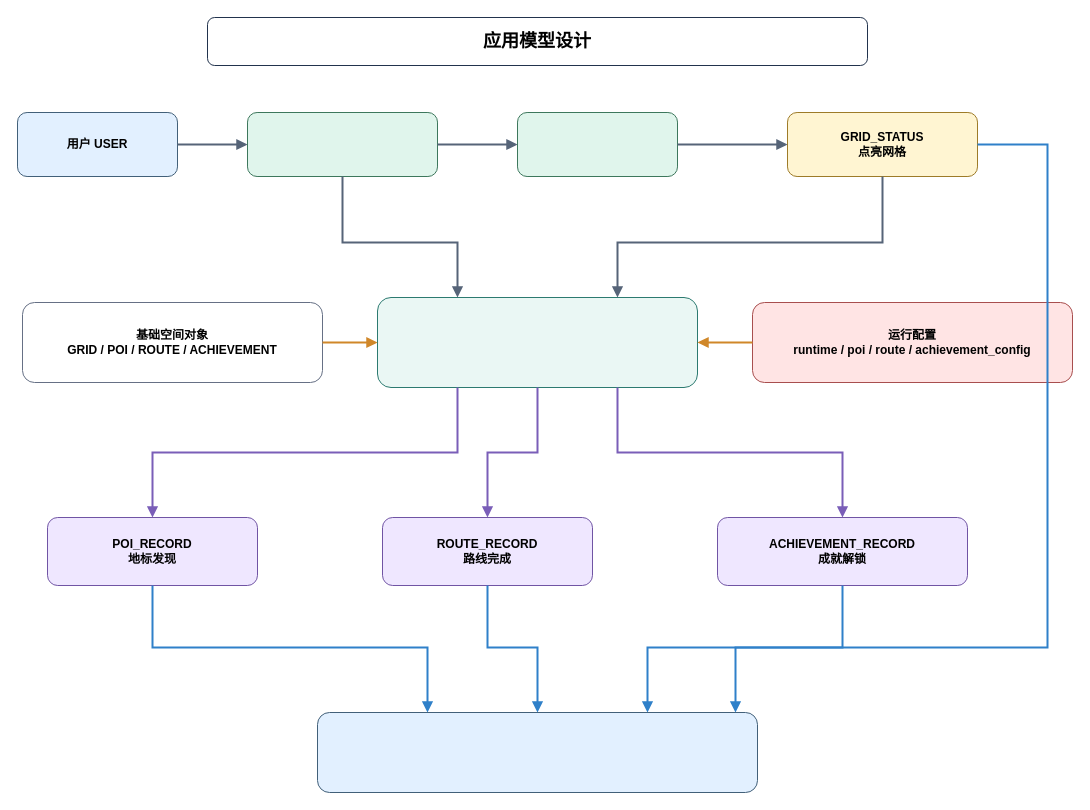
Some shapes in this 1090 by 810 pixel diagram are drawn without their labels. Each missing label, with the centre of its shape:
展示页面 结算 / 历史 / 图鉴 / 成就 / 看板 / 排行: point 537,752
探索会话 TRACK_SESSION: point 342,144
探索判定模型 网格点亮 / POI触达 / 路线完成 / 成就解锁: point 537,342
轨迹点: point 597,144
